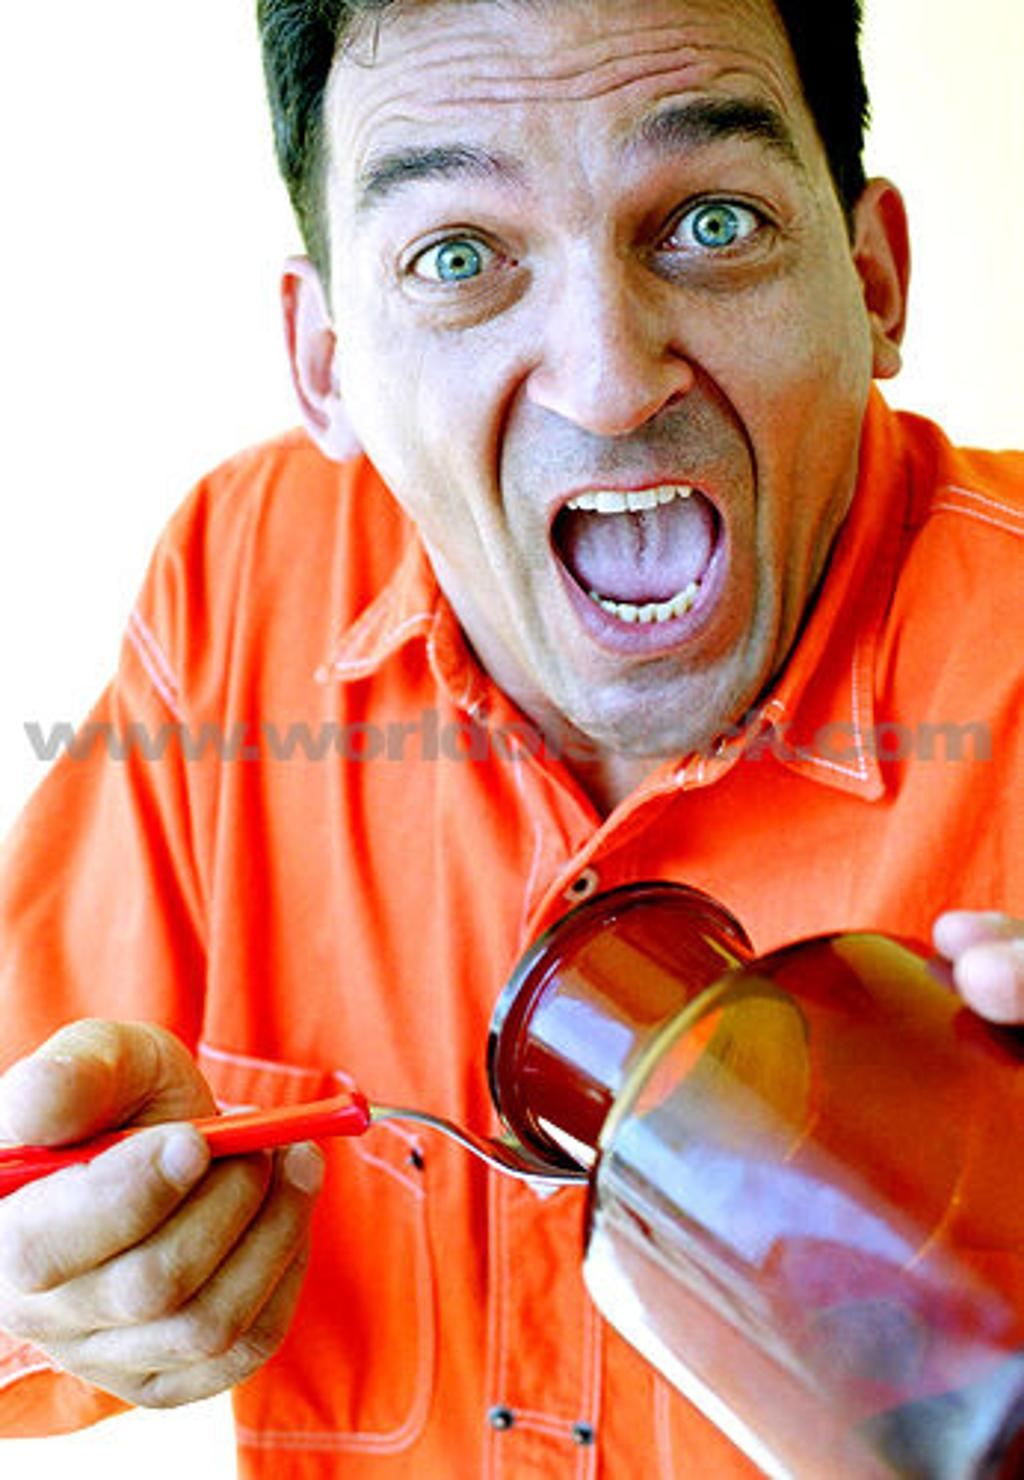face: (338, 26, 859, 746)
